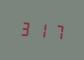one: (34, 19, 48, 40)
seven: (49, 20, 63, 41)
three: (18, 18, 32, 39)
